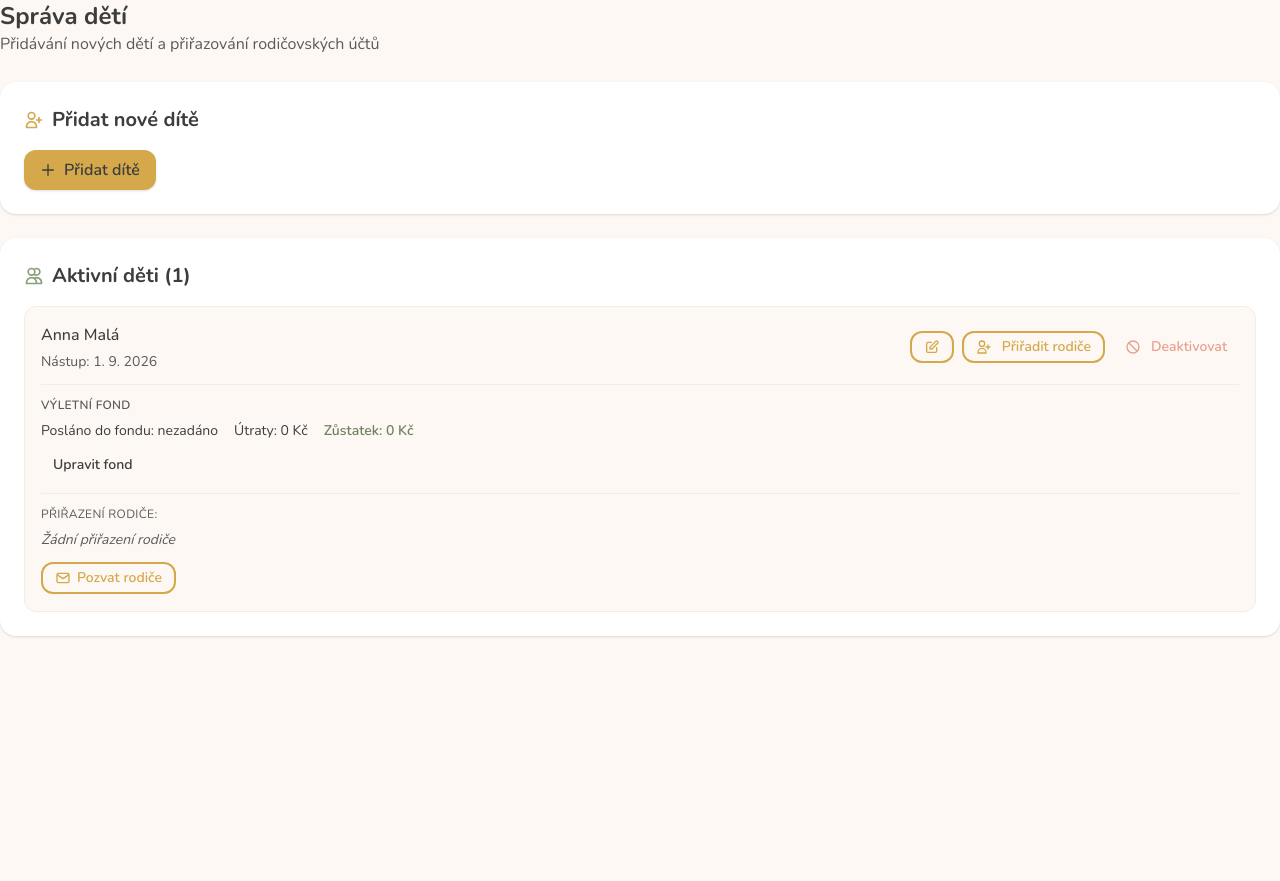
Test: ChildrenManagementPage › submits the selected start date when adding a child
Expected: the button named "Upravit Anna Malá" is shown, top-left (910, 331), bottom-right (954, 363)
Click the button "Přidat dítě" at (90, 170), box top-left (24, 150), bottom-right (156, 190)
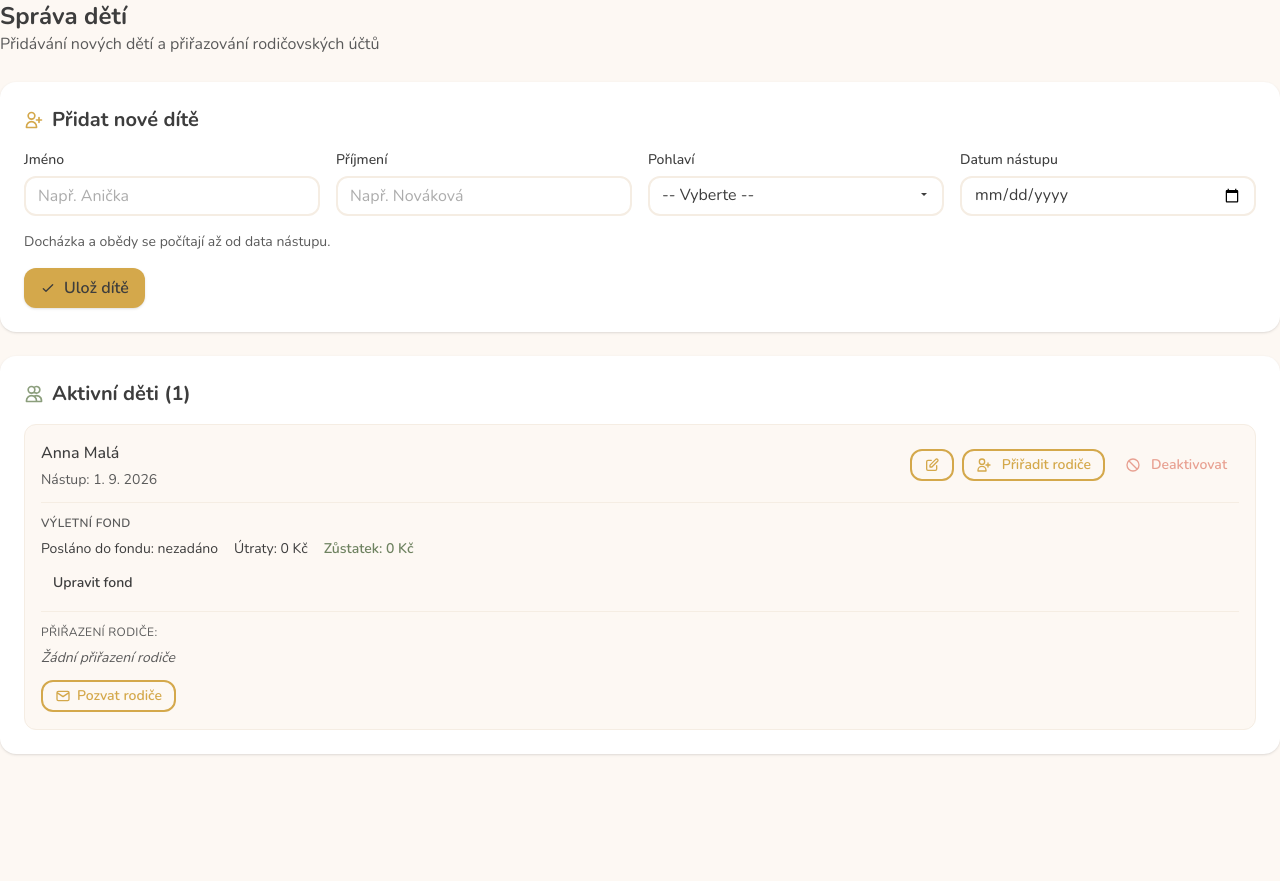
Type "Eva" into the field labelled "Jméno" at (172, 196), box top-left (24, 176), bottom-right (320, 216)
Type "Nová" into the field labelled "Příjmení" at (484, 196), box top-left (336, 176), bottom-right (632, 216)
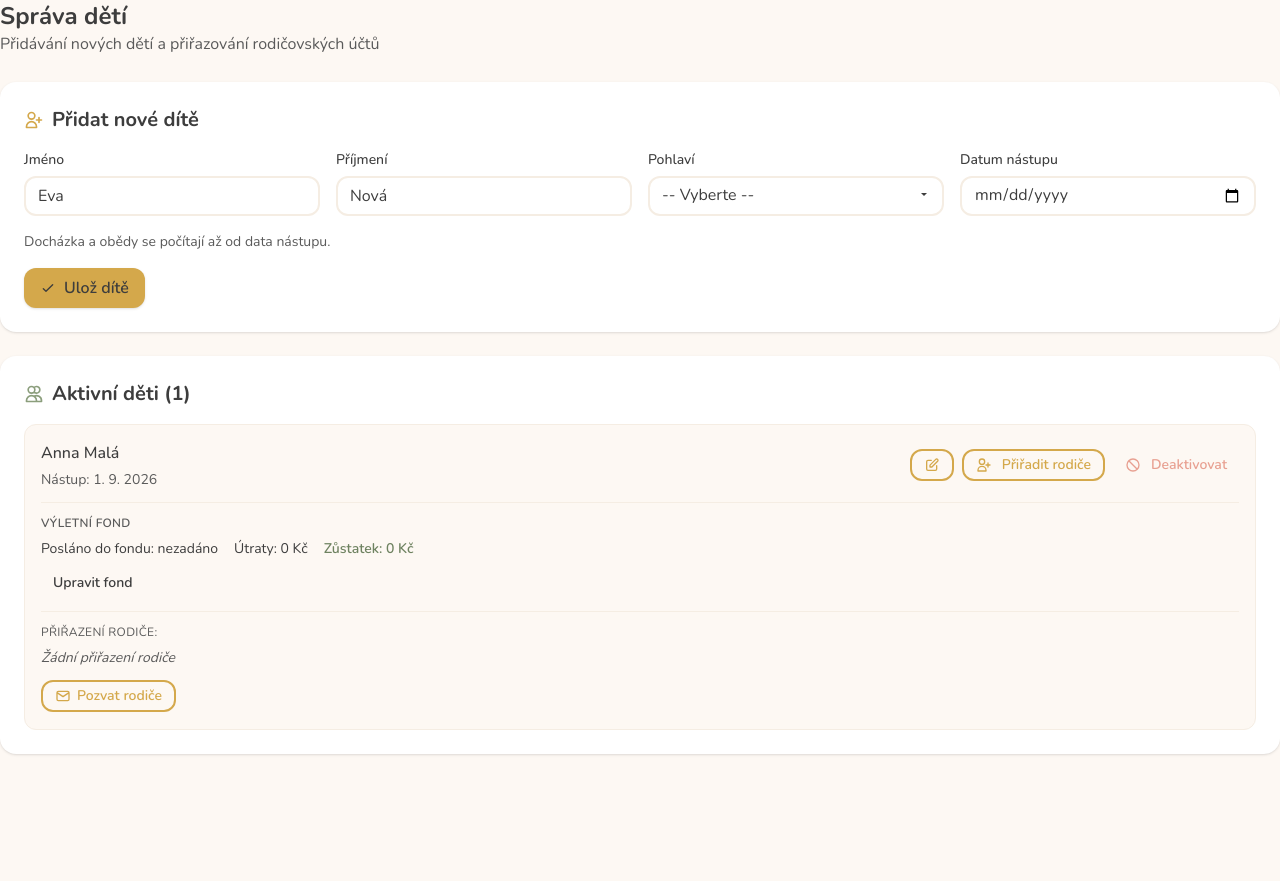
Select "Dívka" in the dropdown labelled "Pohlaví" at (796, 196), box top-left (648, 176), bottom-right (944, 216)
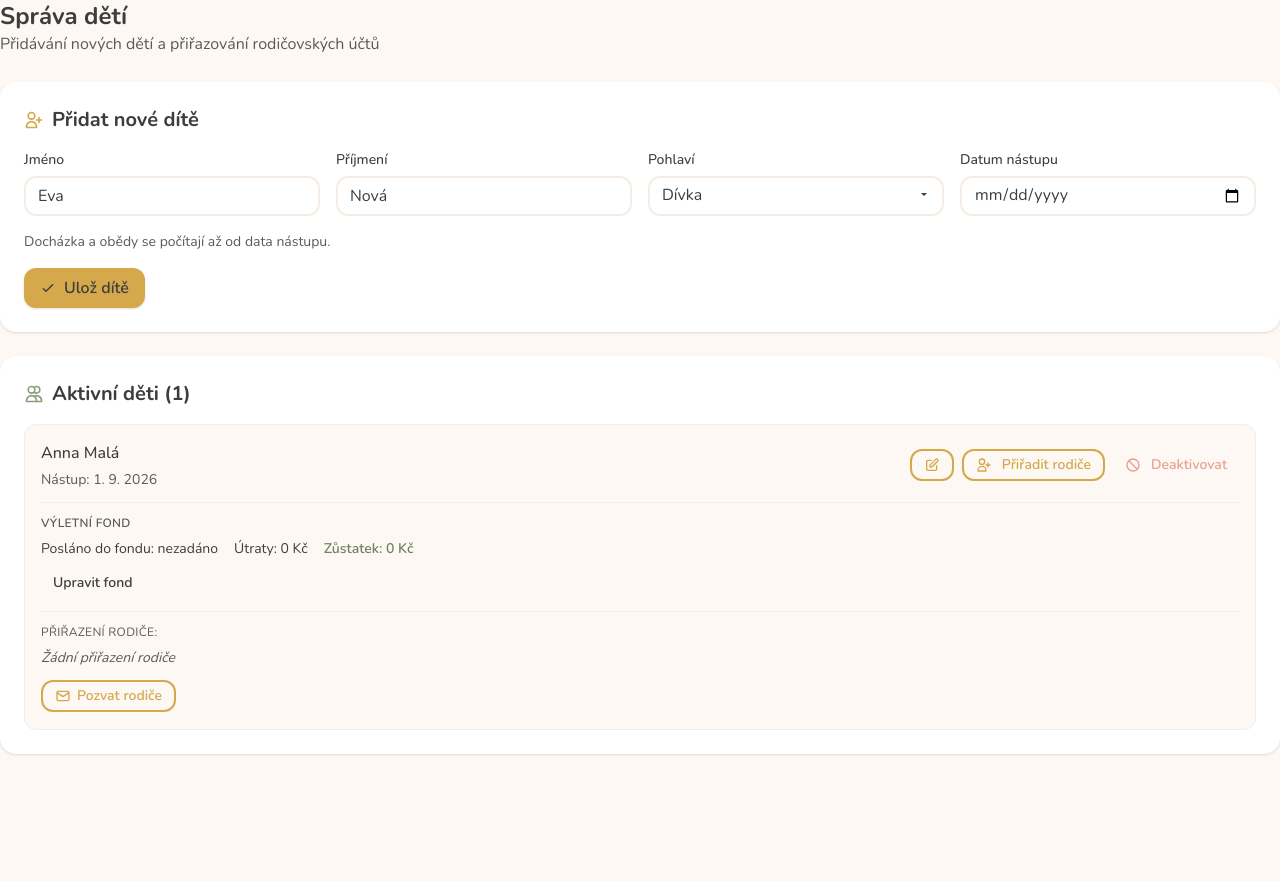
Type "2026-11-02" into the date field labelled "Datum nástupu" at (1108, 196), box top-left (960, 176), bottom-right (1256, 216)
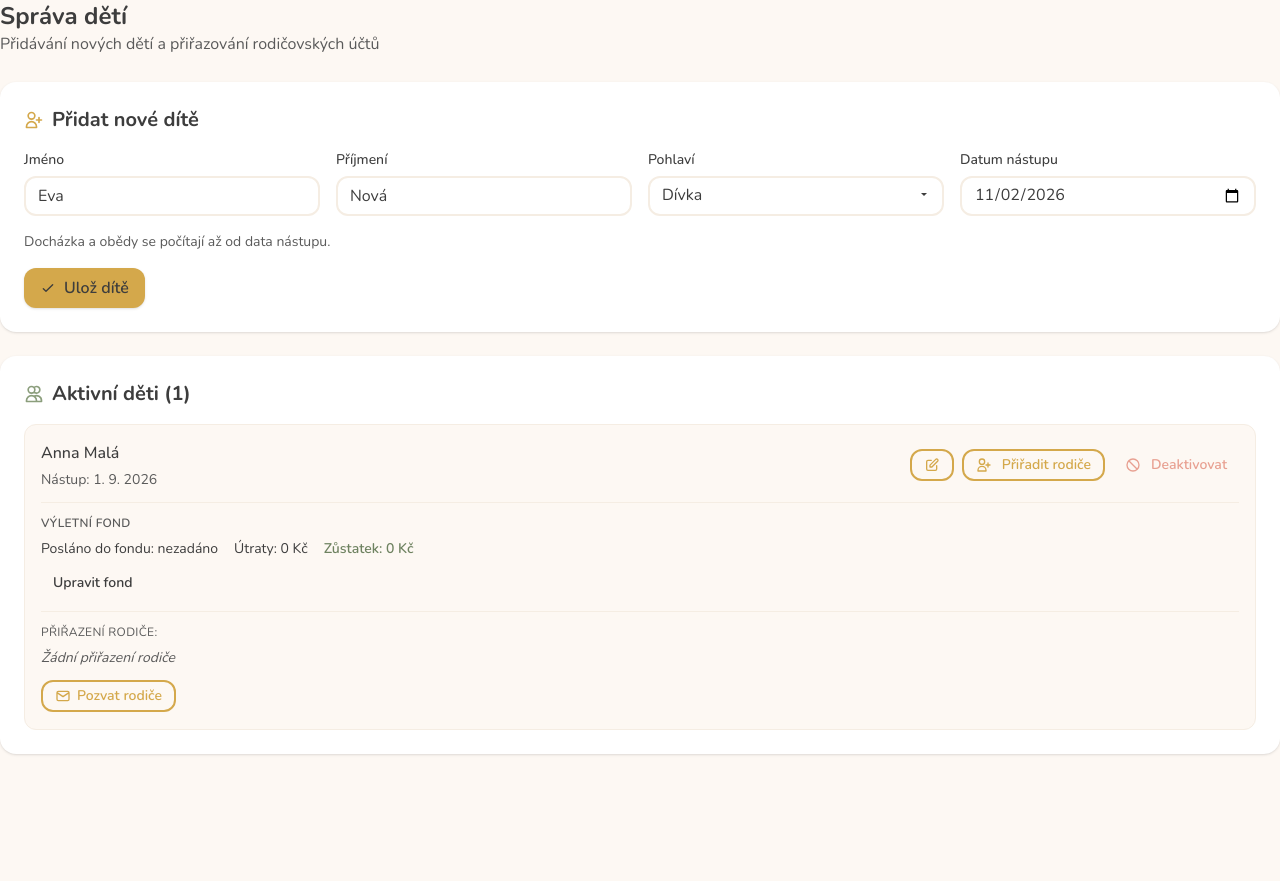
Click the button "Ulož dítě" at (84, 288), box top-left (24, 268), bottom-right (145, 308)
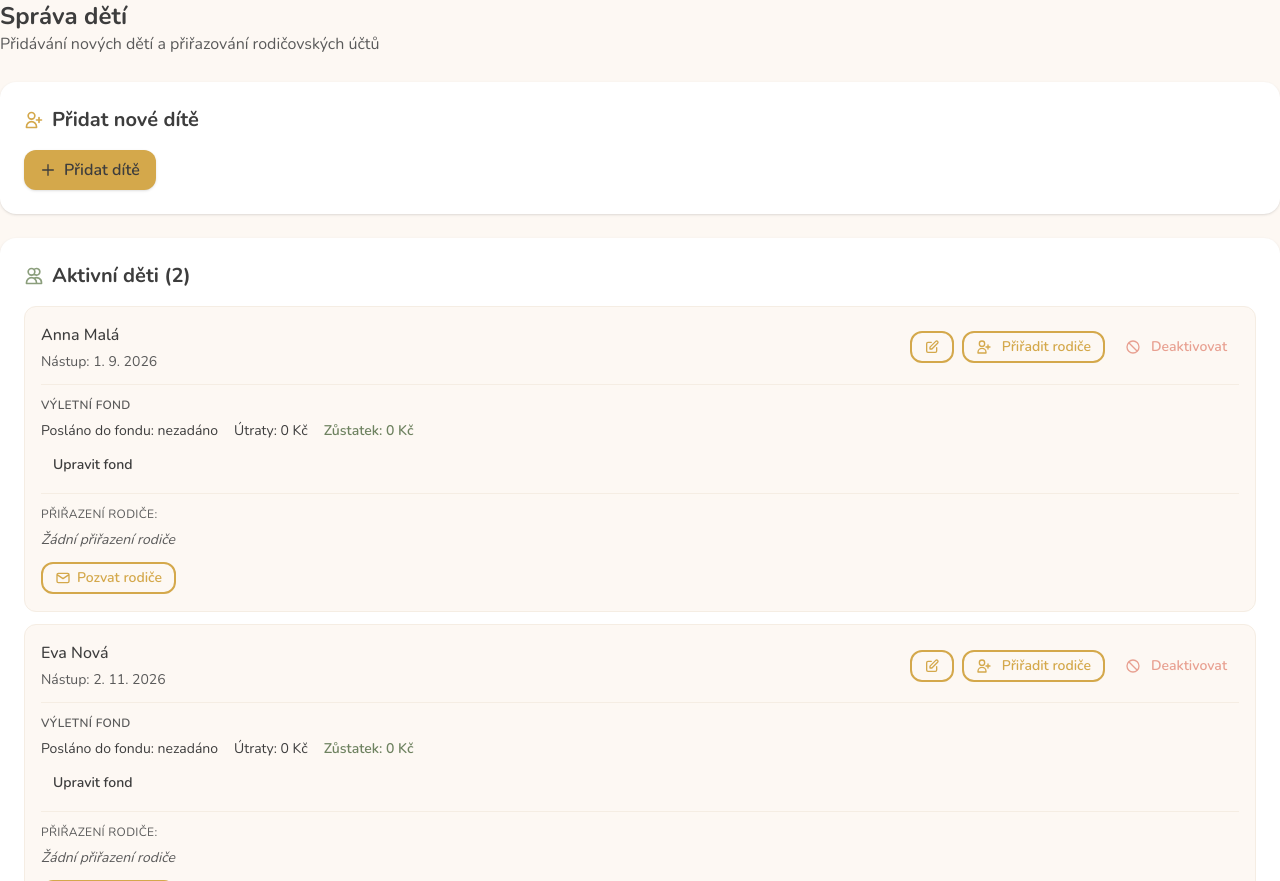
Now the text "Nástup: 2. 11. 2026" is shown, box top-left (41, 670), bottom-right (166, 689)
Now the label labelled "Jméno" is gone
Now the label labelled "Datum nástupu" is gone
Click the button "Přidat dítě" at (90, 170), box top-left (24, 150), bottom-right (156, 190)
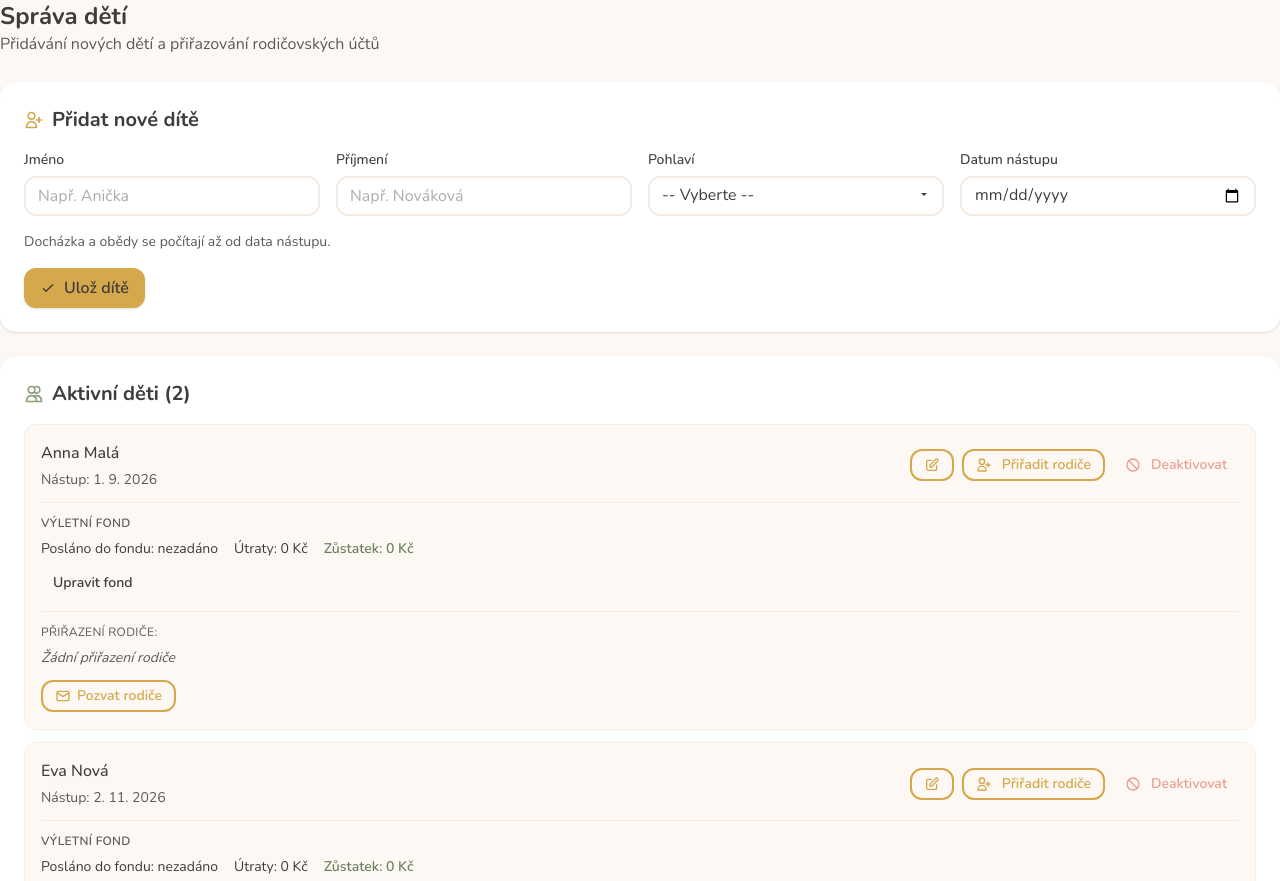
Now the field labelled "Jméno" is empty, box top-left (24, 176), bottom-right (320, 216)
Now the field labelled "Příjmení" is empty, box top-left (336, 176), bottom-right (632, 216)
Now the dropdown labelled "Pohlaví" shows "-- Vyberte --", box top-left (648, 176), bottom-right (944, 216)
